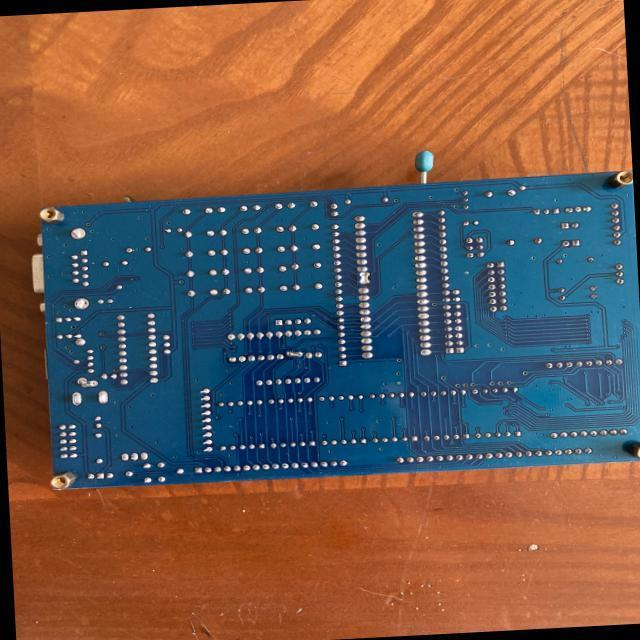damged: (357, 272, 371, 286), (286, 350, 304, 360)
